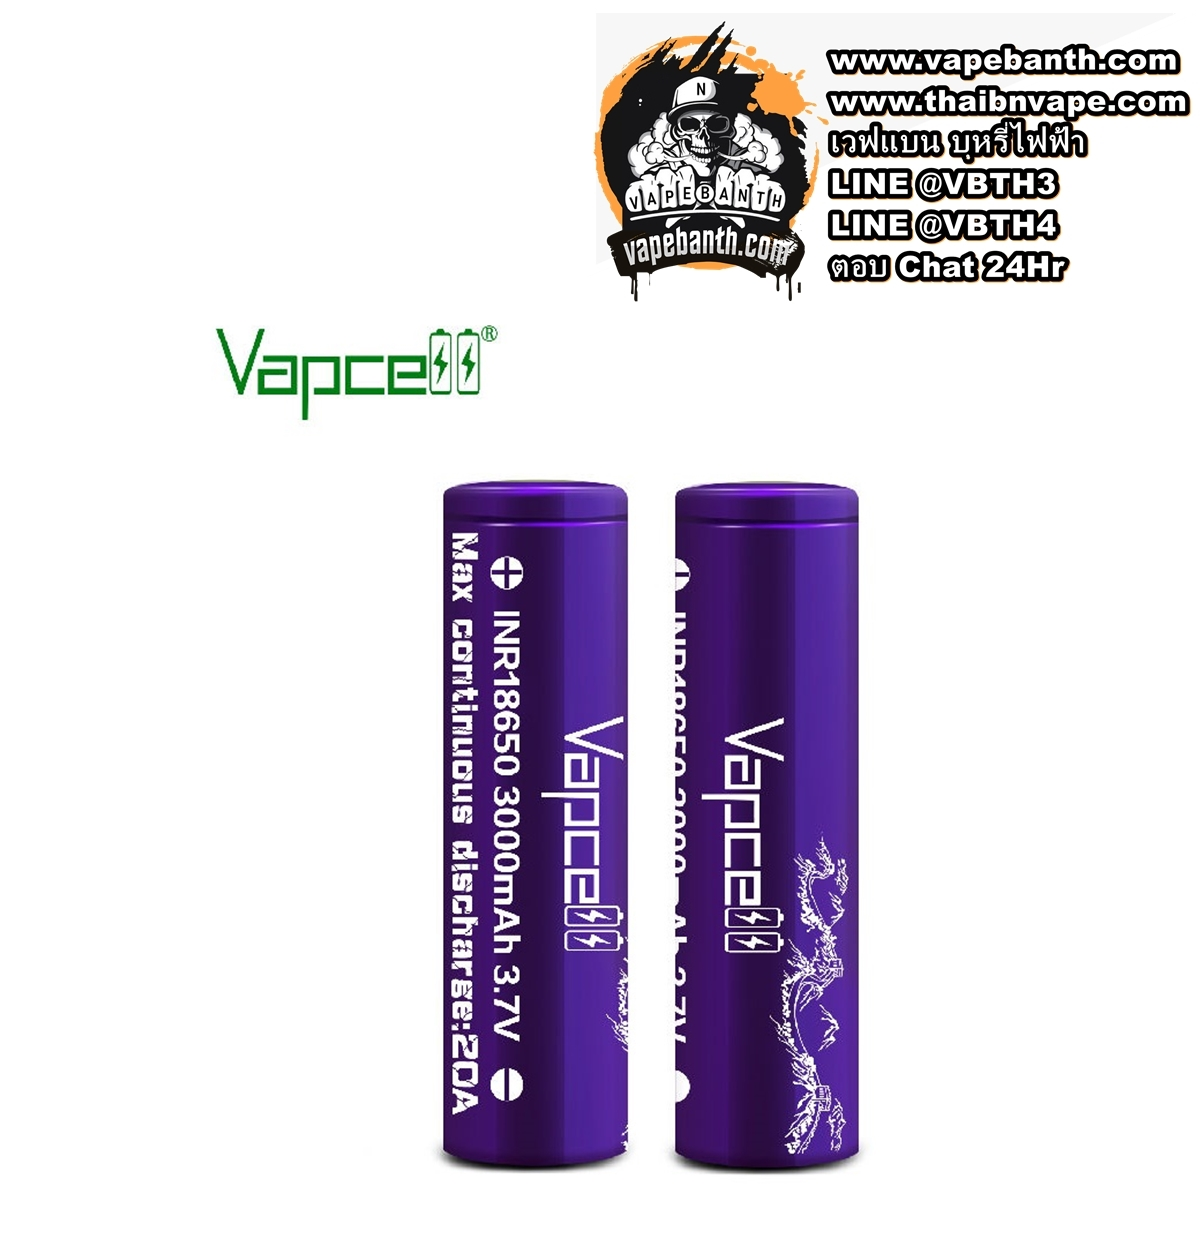Battery: (663, 476, 866, 1178), (433, 475, 635, 1174)
